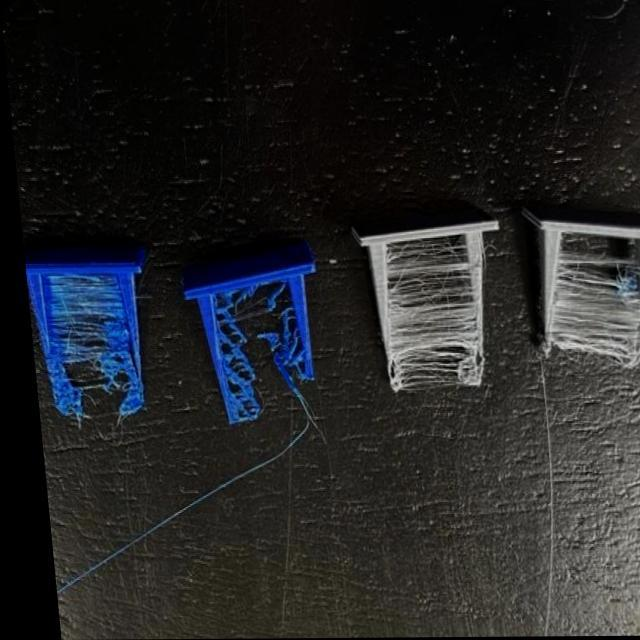stringing: (526, 226, 640, 371), (376, 236, 475, 389), (36, 272, 130, 406)
